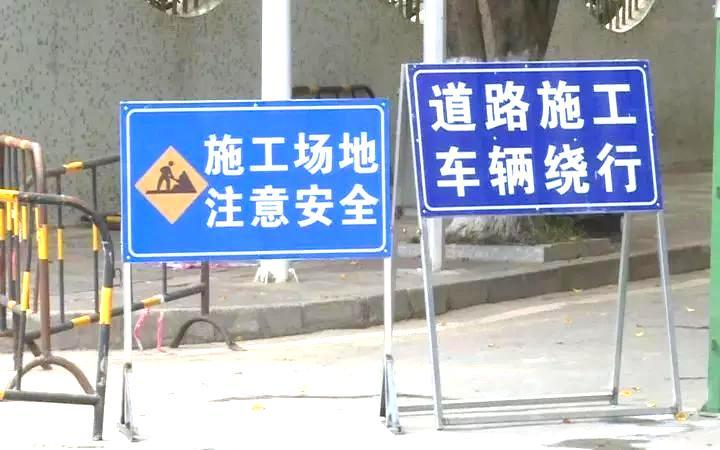sign: (120, 102, 392, 259), (410, 62, 666, 215)
